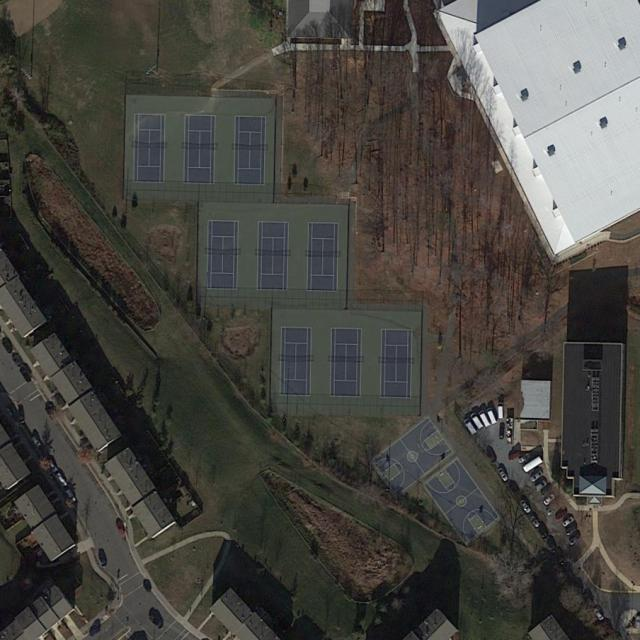large-vehicle: (523, 455, 544, 474), (469, 411, 485, 430), (463, 417, 479, 436), (486, 406, 499, 425), (479, 409, 492, 428), (495, 402, 506, 419)
small-vehicle: (147, 609, 166, 632), (51, 470, 69, 491), (484, 445, 500, 466), (62, 487, 79, 505), (18, 364, 34, 383), (543, 500, 561, 516), (30, 434, 45, 452), (114, 518, 127, 538), (553, 506, 568, 523), (87, 624, 103, 639), (45, 405, 59, 422), (45, 457, 57, 476), (561, 513, 576, 528), (518, 499, 532, 514), (96, 552, 109, 568), (1, 336, 14, 352), (528, 513, 541, 529), (11, 349, 23, 366), (530, 469, 544, 483), (496, 468, 510, 482), (543, 491, 556, 506), (518, 451, 532, 464), (564, 523, 578, 536), (535, 478, 548, 492), (508, 482, 521, 496), (509, 450, 522, 463), (497, 424, 505, 439)
